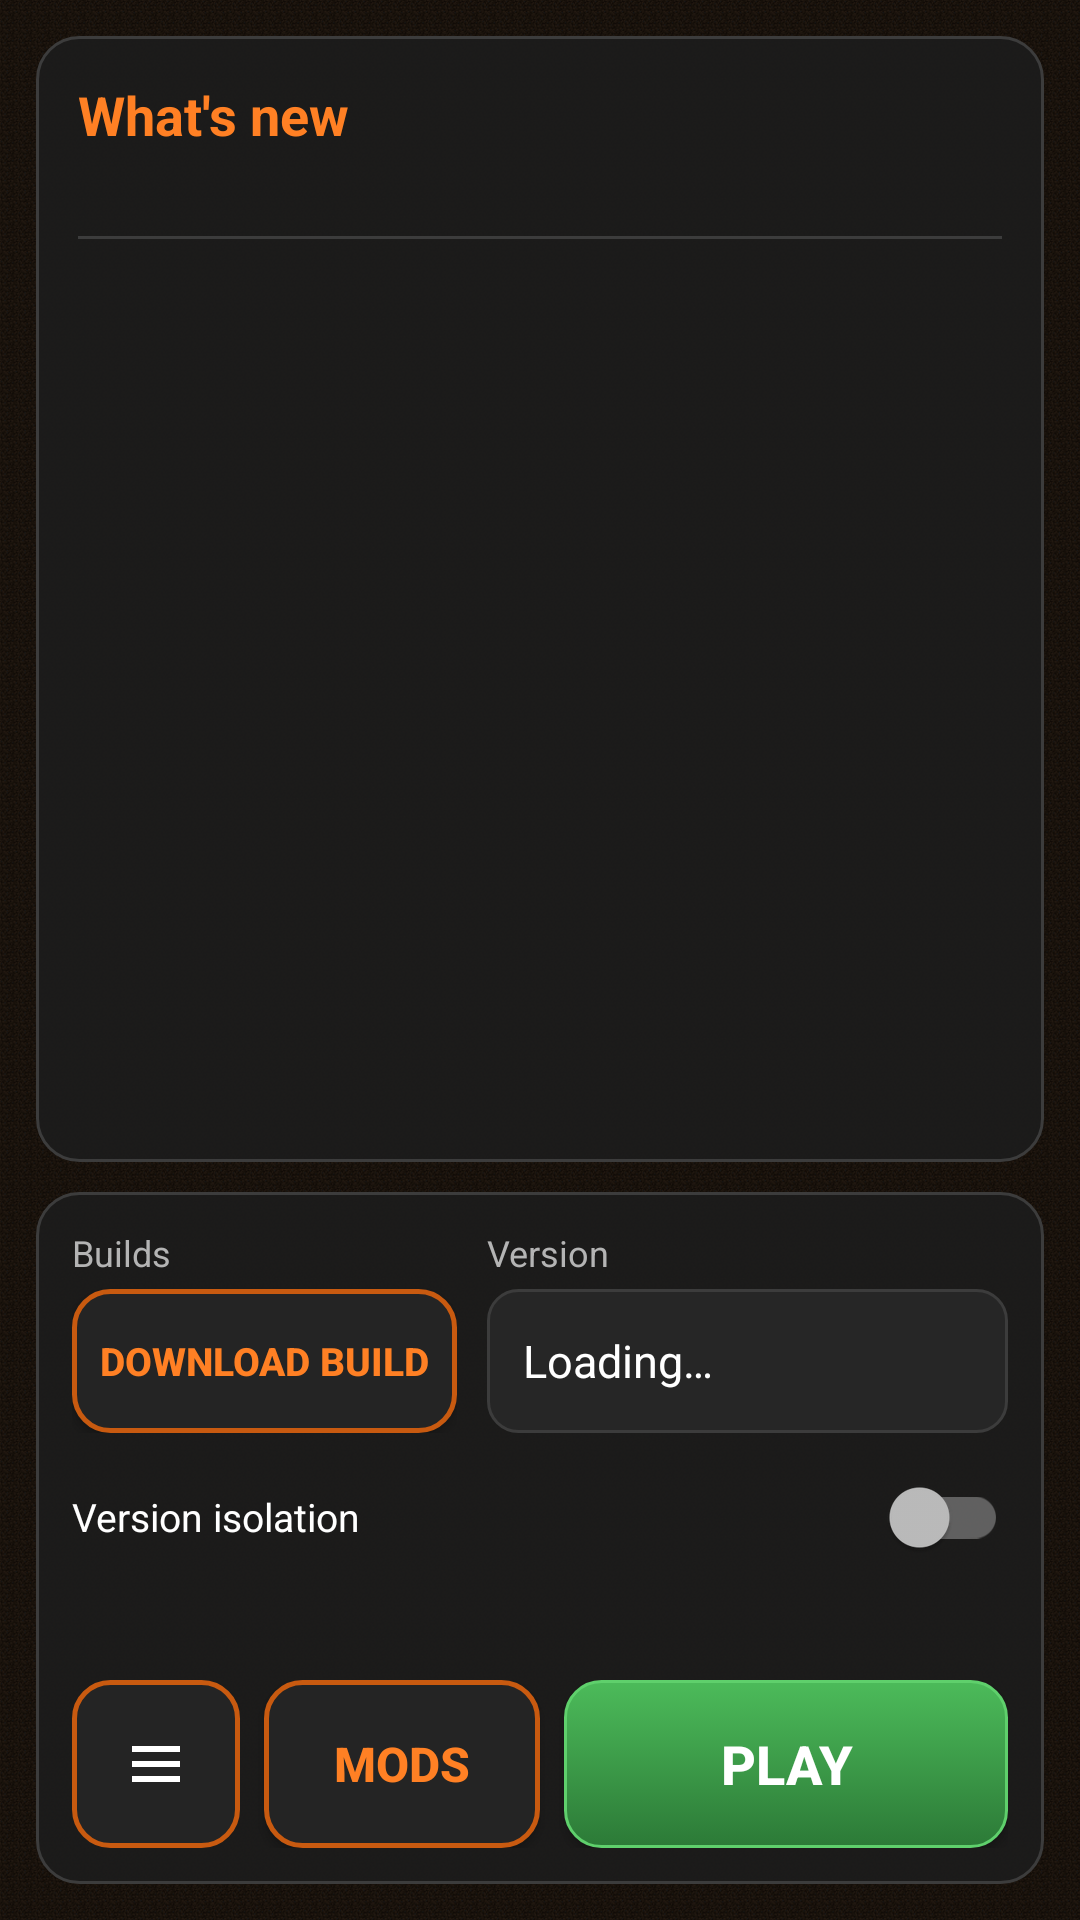

Icons on this 1080×1920 Android screen, each with the point to tap as (x=x, y=y):
More: (x=156, y=1764)
